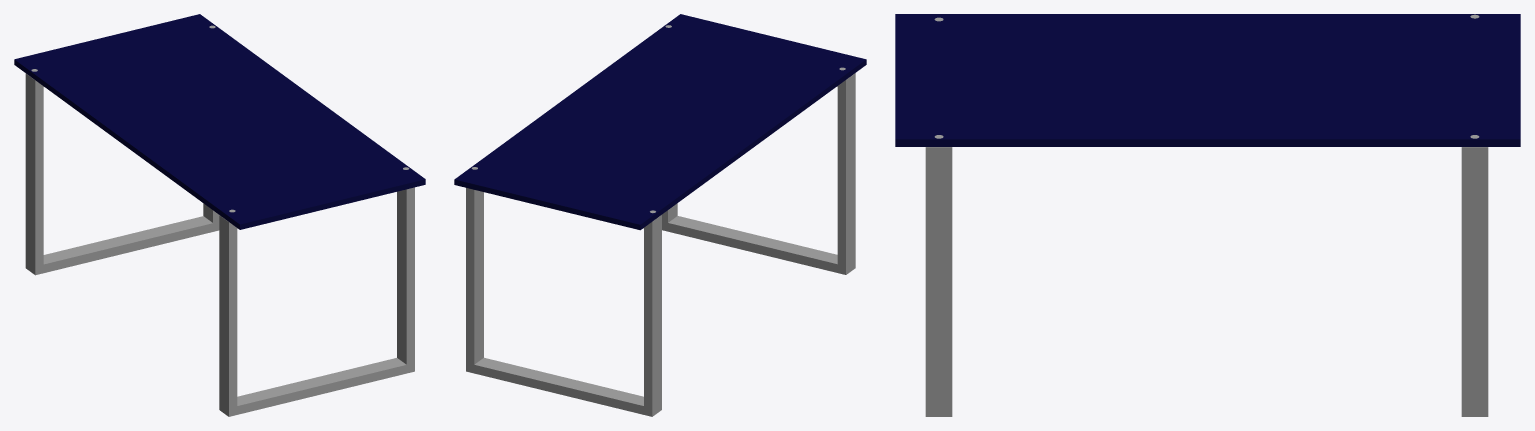
File: SCRIVANIA_CRISTALLO_ONEDRIVE.fbx
3 views of the same model, side by side, from view 1: azimuth 30°, elevation 25°; view 2: azimuth 150°, elevation 25°; view 3: azimuth 270°, elevation 25° (orthographic). The views are drawn at different scales.
Visible parts, largest first — view 1: Plane; view 2: Plane; view 3: Plane.
Boxes of the visible parts, bbox=[...] form: Plane: bbox=[14, 14, 425, 416]; Plane: bbox=[454, 14, 866, 416]; Plane: bbox=[895, 14, 1520, 416].
Bounding box in the file's own units: 2 × 2.06 × 4.2.
